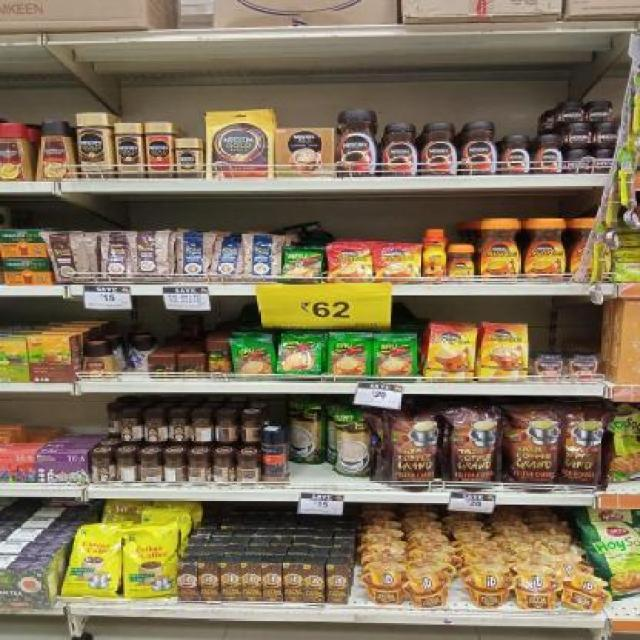Coffee: (523, 219, 567, 283), (337, 110, 378, 176), (427, 323, 475, 379), (479, 324, 527, 380), (478, 220, 520, 282), (77, 113, 113, 179), (420, 123, 458, 175), (463, 123, 499, 174), (383, 124, 419, 175), (376, 247, 418, 283), (116, 123, 142, 179), (332, 246, 371, 282), (423, 230, 445, 284), (501, 135, 530, 173), (534, 135, 562, 173), (448, 244, 475, 282), (176, 138, 202, 177), (595, 123, 623, 146), (593, 149, 617, 173), (565, 124, 591, 146), (565, 150, 589, 173), (587, 100, 613, 120), (561, 101, 584, 121)
